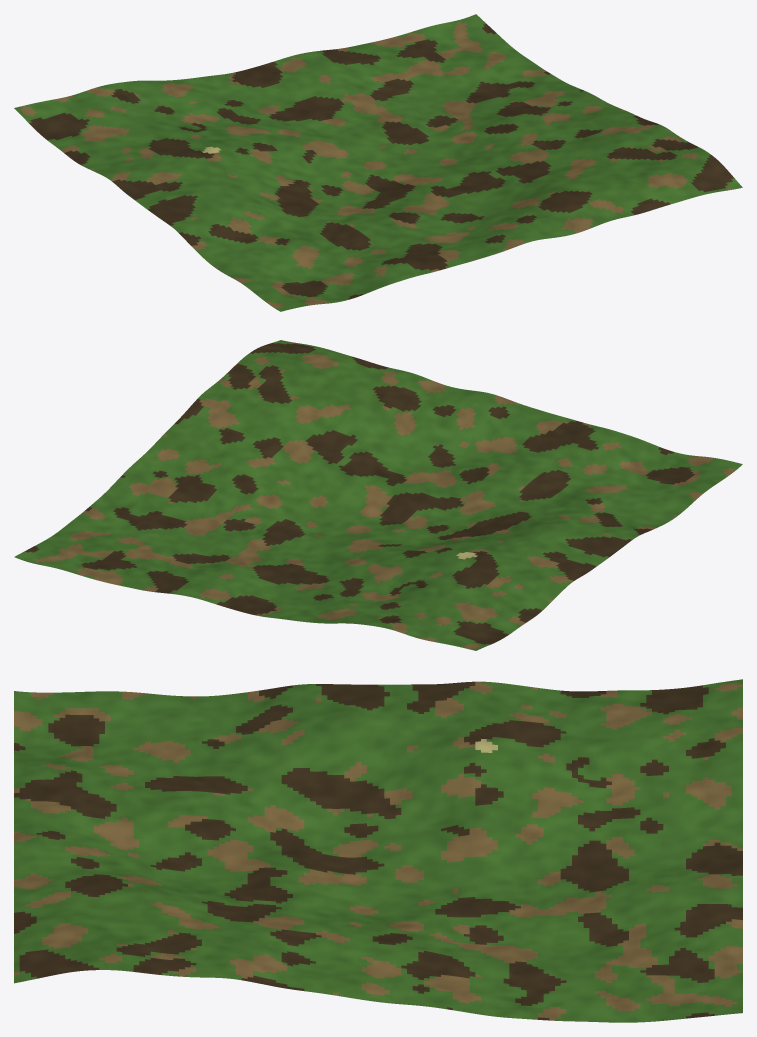
Rendered from chunk_0_7.glb.
3 views of the same model, one above another, from view 1: azimuth 30°, elevation 25°; view 2: azimuth 150°, elevation 25°; view 3: azimuth 270°, elevation 25° (orthographic). The views are drawn at different scales.
Parts seen in each view (by area): view 1: Surface_Grass, Surface_Mud, Surface_Dirt; view 2: Surface_Grass, Surface_Mud, Surface_Dirt; view 3: Surface_Grass, Surface_Mud, Surface_Dirt.
Boxes of the visible parts, x1,y1,x2,y2 form: Surface_Grass: (14,14,742,311); Surface_Mud: (29,24,734,299); Surface_Dirt: (20,22,731,308); Surface_Grass: (14,340,742,650); Surface_Mud: (25,343,694,644); Surface_Dirt: (33,342,736,649); Surface_Grass: (14,679,742,1022); Surface_Mud: (14,681,742,1020); Surface_Dirt: (14,681,742,1020).
Size of the model in its own units: 256 by 21.44 by 256.
